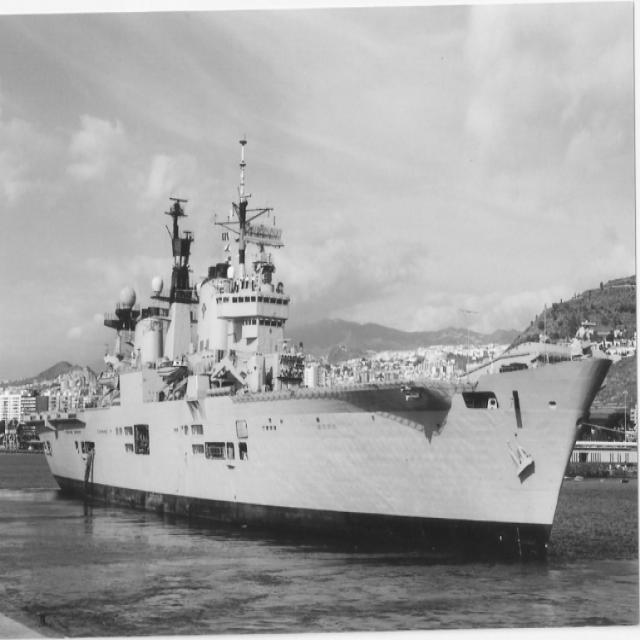Portanaves: (16, 94, 616, 571)
